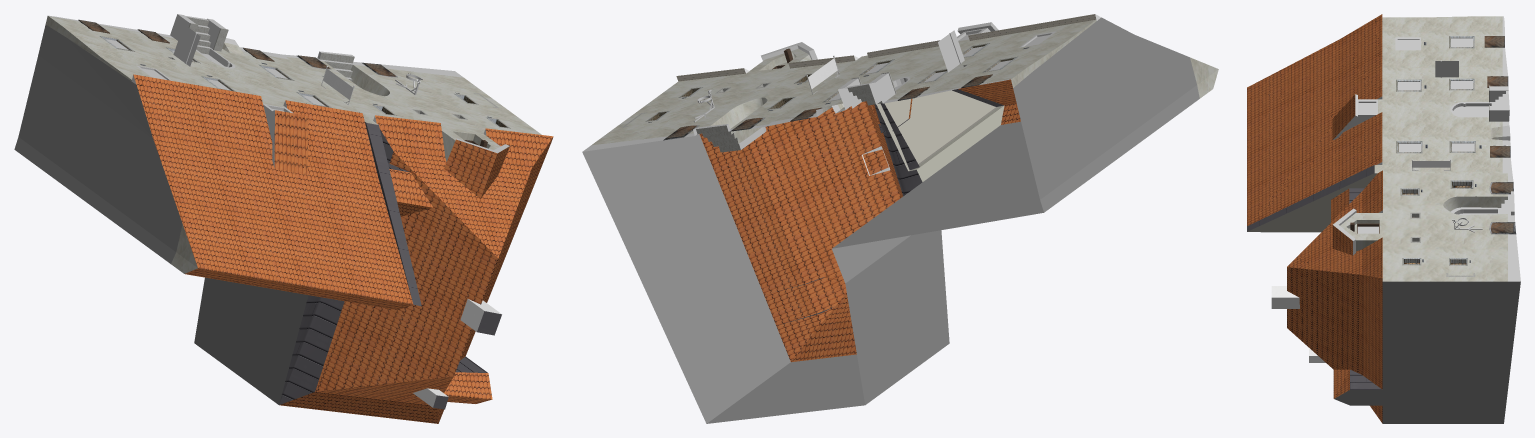
The model's file is Raekoja_tn_4.obj.
3 views of the same model, side by side, from view 1: azimuth 30°, elevation 25°; view 2: azimuth 150°, elevation 25°; view 3: azimuth 270°, elevation 25° (orthographic). The views are drawn at different scales.
Visible parts, largest first — view 1: Raekoja_tn_4; view 2: Raekoja_tn_4; view 3: Raekoja_tn_4.
Part boxes in pixels (x1=…): Raekoja_tn_4: x1=14, y1=14, x2=553, y2=423; Raekoja_tn_4: x1=582, y1=14, x2=1218, y2=423; Raekoja_tn_4: x1=1247, y1=14, x2=1520, y2=423.
Size of the model in its own units: 23.65 by 21.1 by 17.26.
